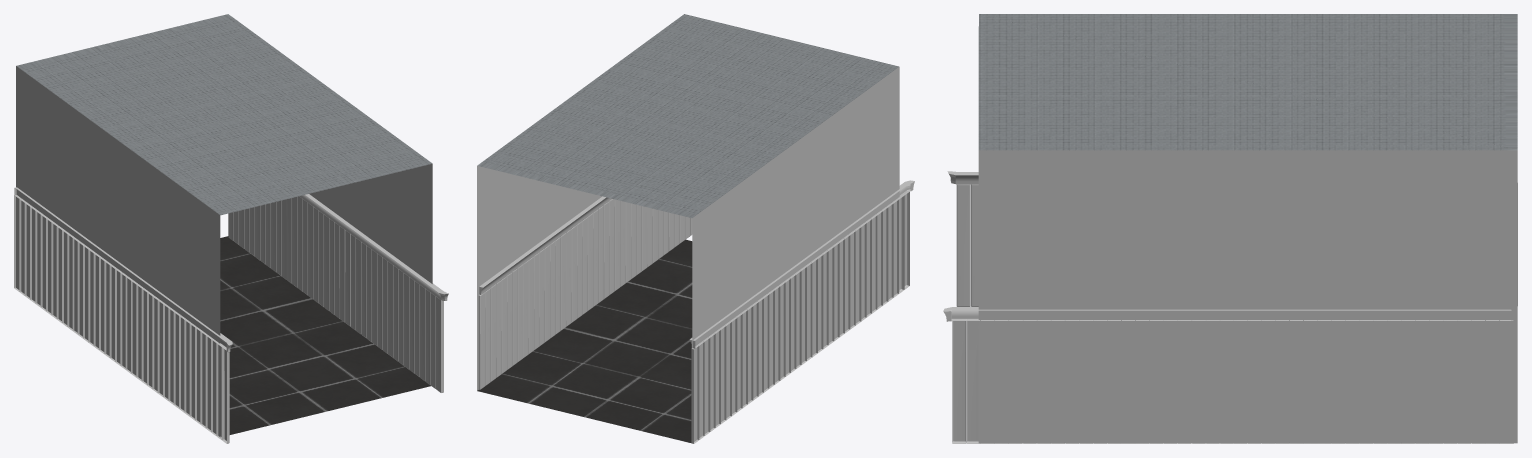
The model's file is newhallway.fbx.
3 views of the same model, side by side, from view 1: azimuth 30°, elevation 25°; view 2: azimuth 150°, elevation 25°; view 3: azimuth 270°, elevation 25° (orthographic). The views are drawn at different scales.
Parts seen in each view (by area): view 1: polySurface212, polySurface357, polySurface400, polySurface358; view 2: polySurface212, polySurface357, polySurface400; view 3: polySurface212, polySurface357, polySurface400.
Boxes of the visible parts, x1,y1,x2,y2 form: polySurface212: (16, 14, 432, 437); polySurface357: (228, 194, 448, 392); polySurface400: (14, 187, 232, 443); polySurface358: (425, 289, 430, 384); polySurface212: (477, 14, 899, 443); polySurface357: (478, 196, 692, 389); polySurface400: (689, 180, 914, 443); polySurface212: (978, 14, 1517, 443); polySurface357: (943, 307, 1513, 443); polySurface400: (947, 171, 1517, 306).
Size of the model in its own units: 10.18 by 9.9 by 17.61.
